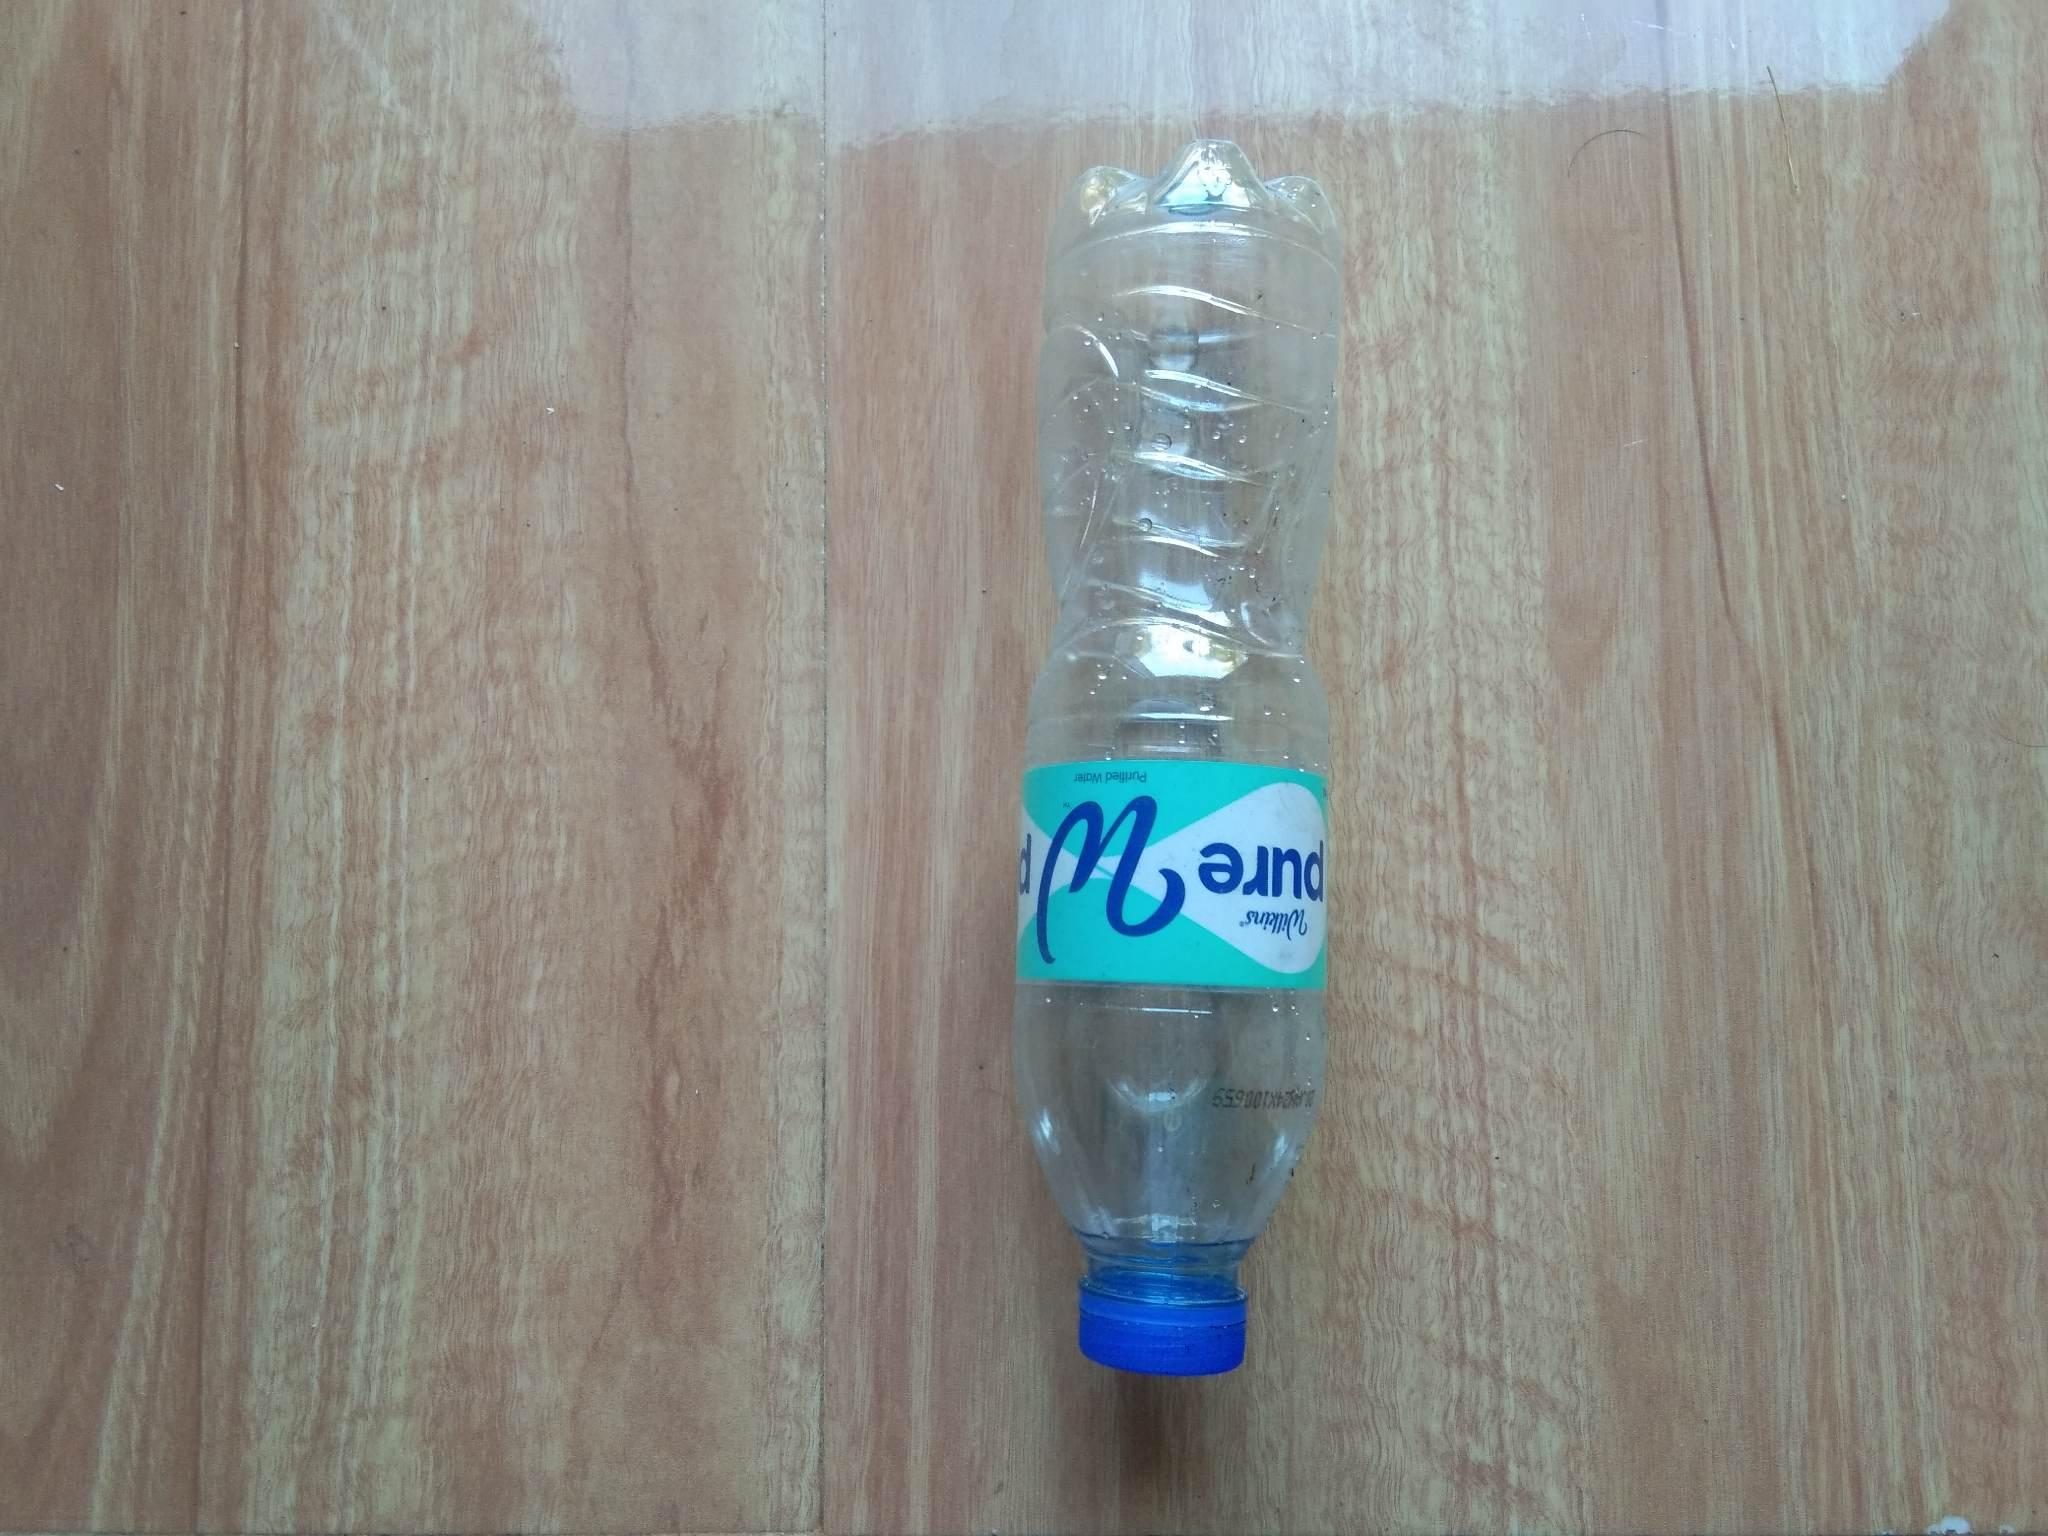plastic: (861, 115, 1493, 1423)
